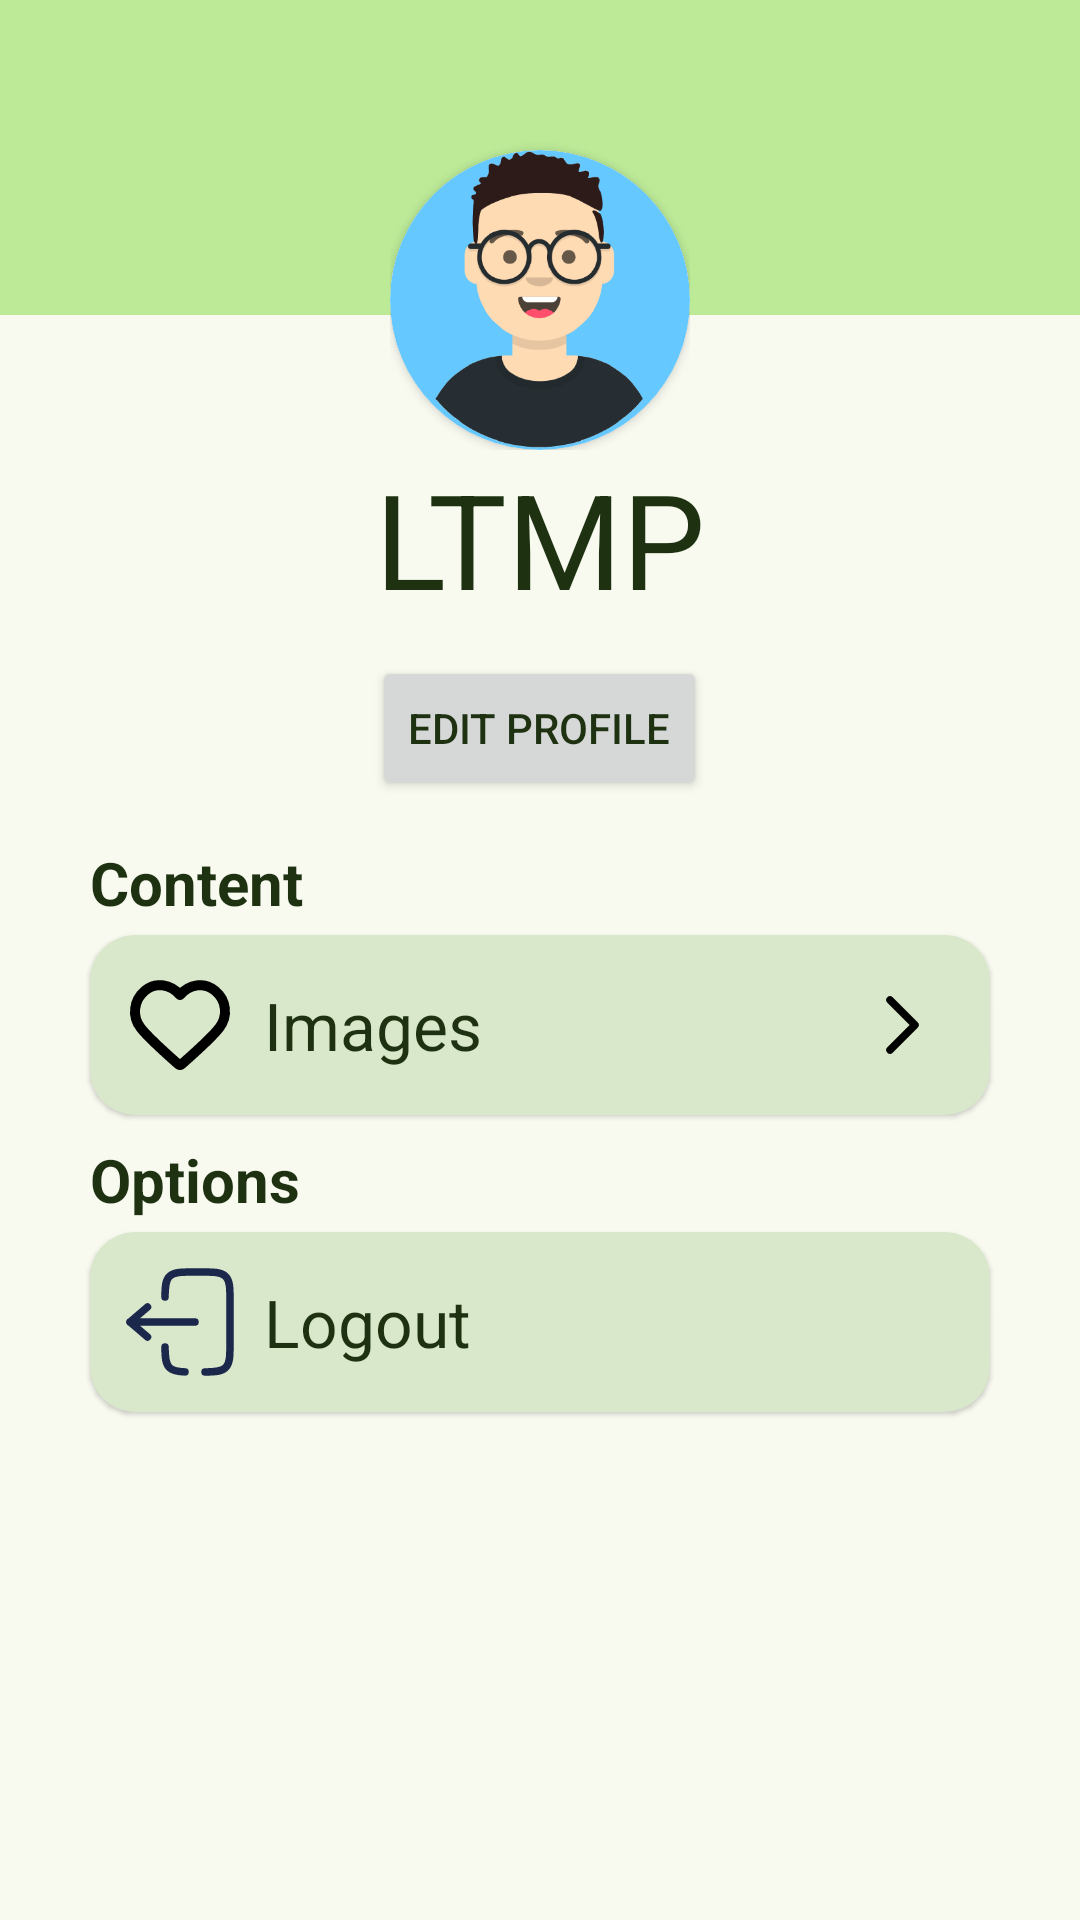

Point at icon controls on the screen. Image size 1080 × 1920, points as [x,y].
avata: [540,300]
